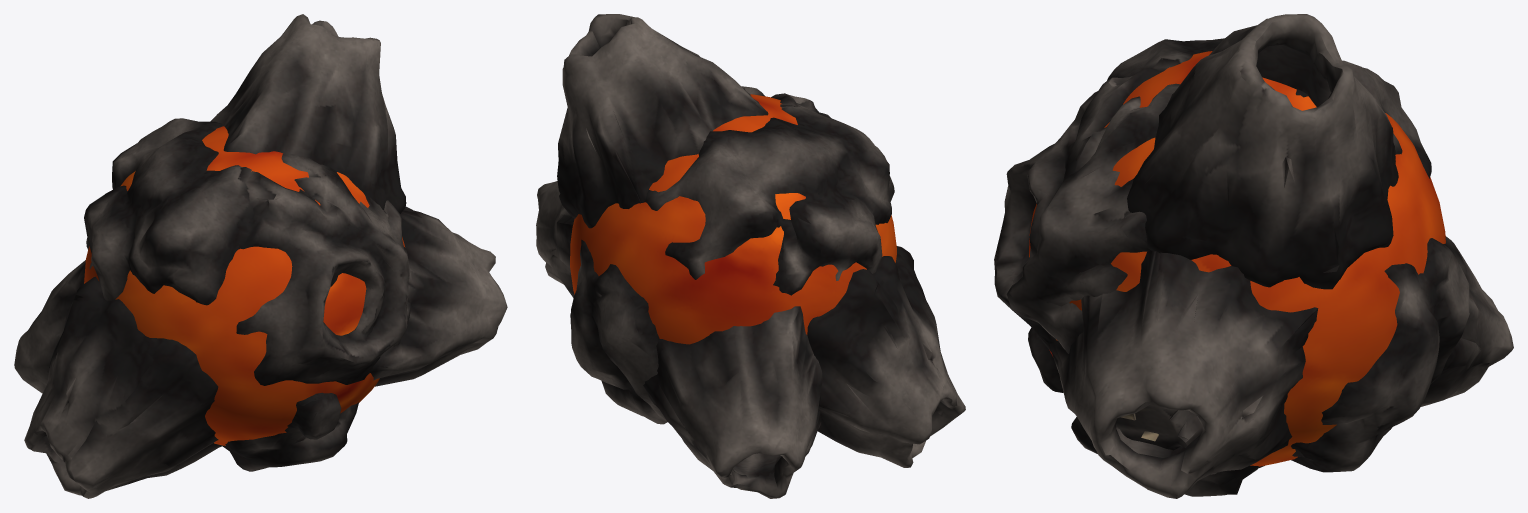
File: VolcanicMoon.glb
3 renders of one model, left to right at view 1: azimuth 30°, elevation 25°; view 2: azimuth 150°, elevation 25°; view 3: azimuth 270°, elevation 25°, orthographic. The views are drawn at different scales.
Visible parts, largest first — view 1: VolcanicMoon; view 2: VolcanicMoon; view 3: VolcanicMoon.
Part boxes in pixels (x1,y1,x2,y2): VolcanicMoon: [14, 14, 507, 498]; VolcanicMoon: [536, 14, 965, 498]; VolcanicMoon: [994, 14, 1513, 498].
Size of the model in its own units: 2.26 by 2 by 1.85.
Materials: 1 (1 with a texture image).
